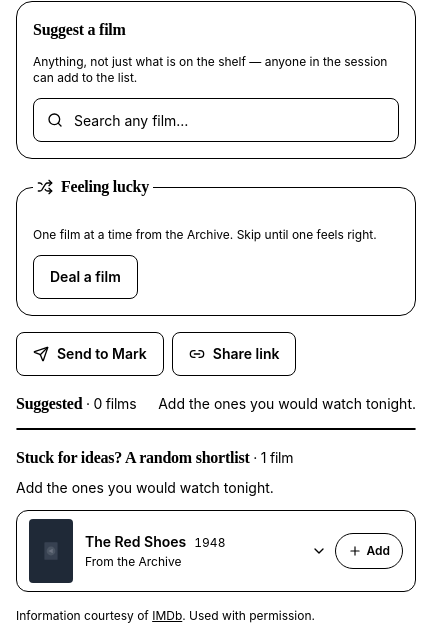
Test: shows both people’s own watch and rating, shelf first, IMDb and a Letterboxd link
This screenshot has width=433, height=640.
(page scrolled)
Step 1. Click the button "The Red Shoes 1948 From the Archive" → [178, 551], box [29,519,328,583]
(page scrolled)
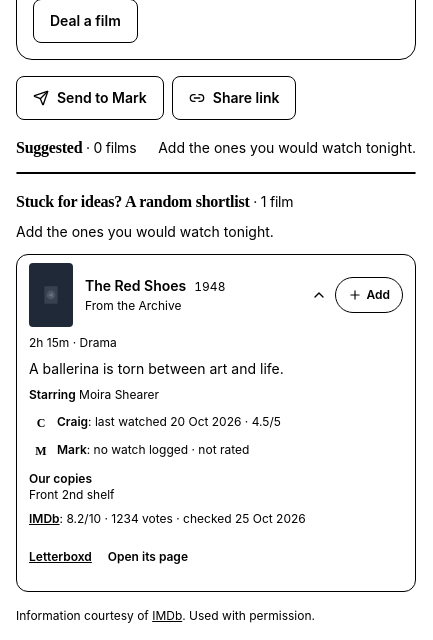
Check: the list item "C Craig: last watched 20 Oct 2026 · 4.5/5" is shown, box [37,414,281,430]
Check: the list item "M Mark: no watch logged · not rated" is shown, box [35,442,249,458]
Check: the list item "Front 2nd shelf" is shown, box [29,487,114,502]
